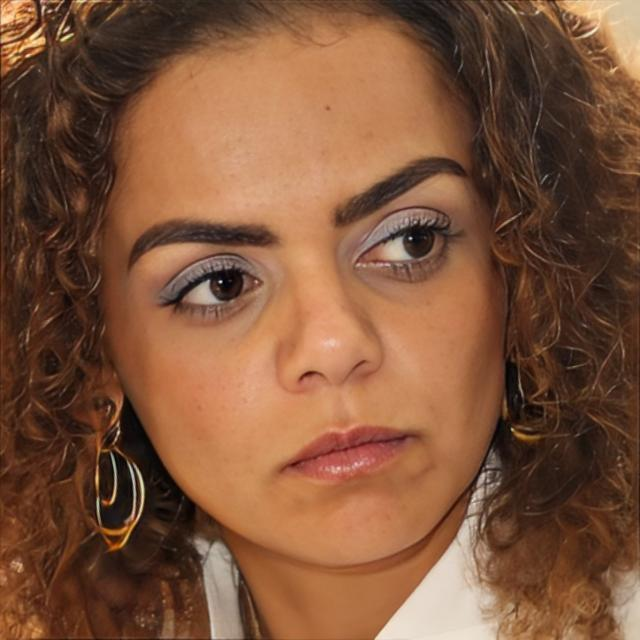anger: (108, 31, 510, 570)
